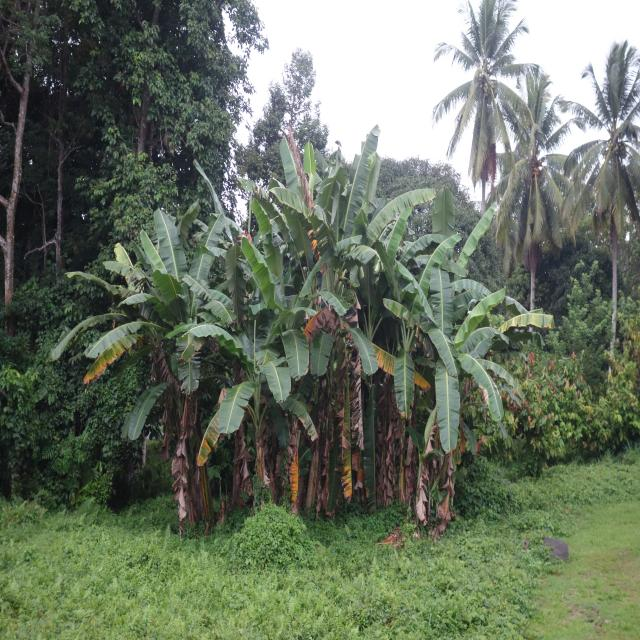Banana-plant: (245, 370, 269, 518)
